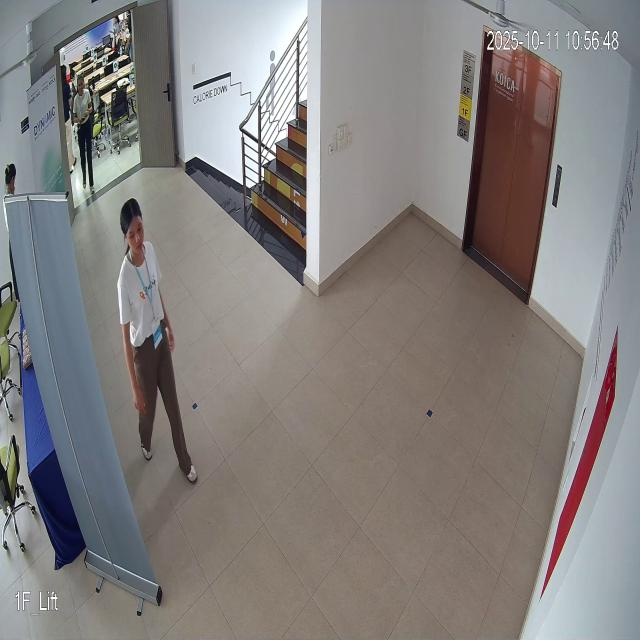face: (118, 194, 147, 261)
